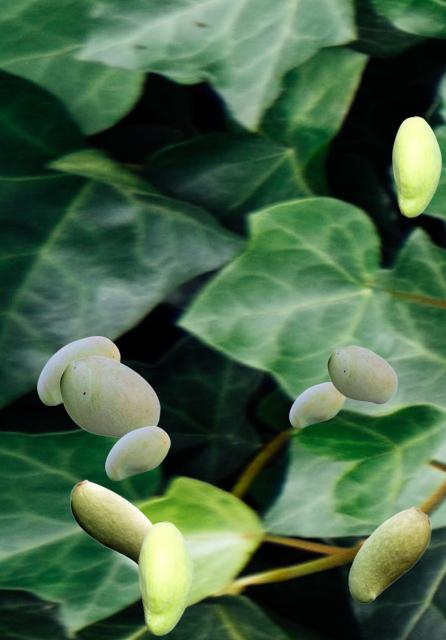green_mango: (59, 355, 159, 438), (348, 506, 430, 602), (70, 479, 152, 565), (138, 521, 192, 634), (37, 336, 119, 404), (392, 116, 440, 216), (327, 345, 396, 403), (105, 426, 169, 479), (289, 382, 344, 427)
